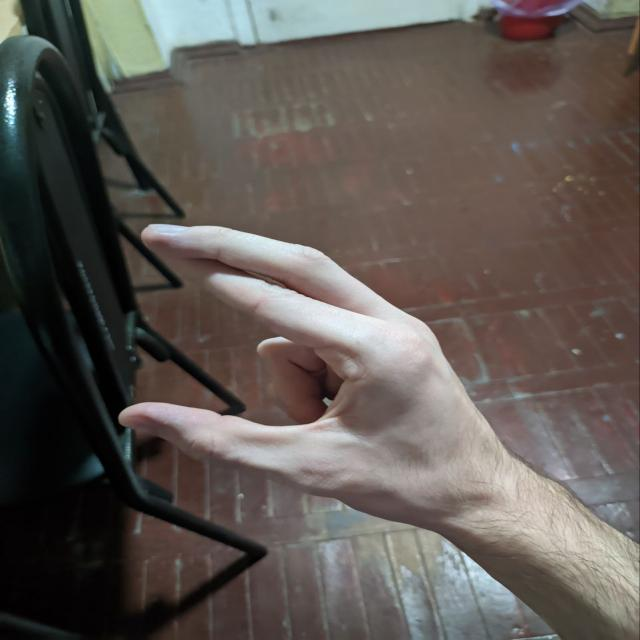ia: (100, 190, 499, 532)
